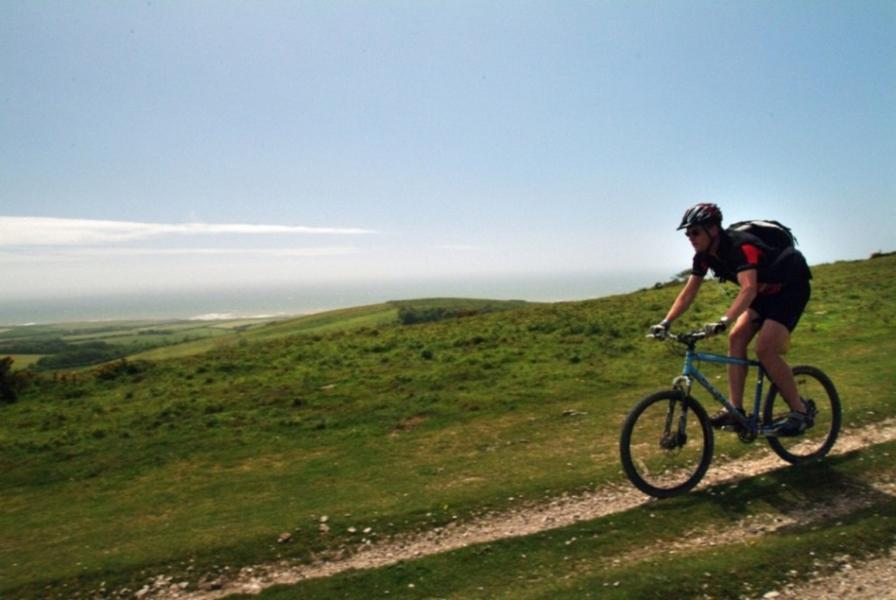person: (648, 203, 817, 438)
